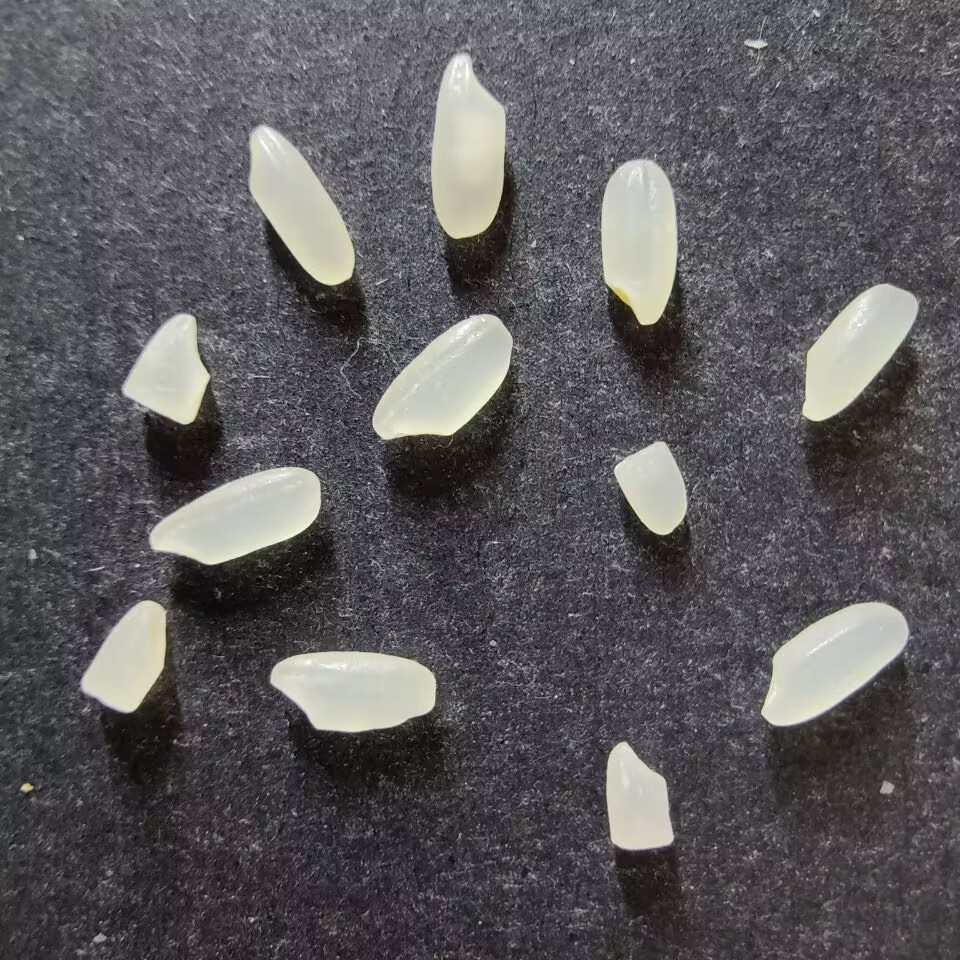broken: (120, 312, 210, 425), (80, 600, 167, 713), (605, 740, 673, 850), (612, 440, 687, 536)
rice: (760, 601, 909, 727), (371, 313, 513, 439), (247, 124, 355, 286), (149, 466, 321, 565), (801, 283, 918, 422), (430, 53, 506, 238), (268, 650, 436, 732), (599, 158, 678, 325)
